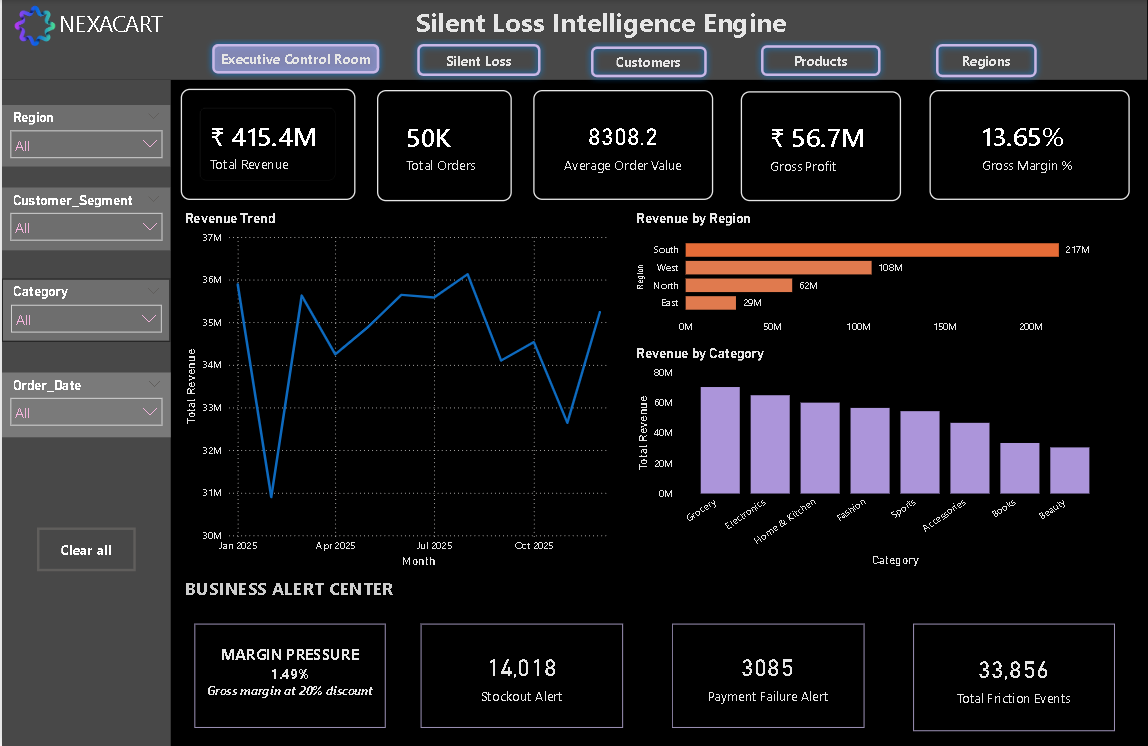

Layout of this report page (visuals, bound fields, positions):
{"tool":"powerbi","page":{"name":"Executive Control Room","canvas":[1400,912],"ordinal":0},"visuals":[{"type":"textbox","box":[0,0,1399.8,97.8],"z":0},{"type":"shape","box":[0,97.8,206.3,814.5],"z":1000},{"type":"slicer","fields":{"Values":["customers.Region"]},"box":[0,127.6,205.8,75.5],"z":2000},{"type":"slicer","fields":{"Values":["customers.Customer_Segment"]},"box":[0,229.2,205.8,76.8],"z":3000},{"type":"slicer","fields":{"Values":["products.Category"]},"box":[0,340.3,205.8,76.8],"z":4000},{"type":"slicer","fields":{"Values":["orders.Order_Date"]},"box":[0,455.4,206.3,79.5],"z":4500},{"type":"cardVisual","fields":{"Data":["order_items.Total Revenue"]},"box":[218.5,108.5,213.9,136],"z":5000},{"type":"cardVisual","fields":{"Data":["orders.Total Orders"]},"box":[458.4,110,165,136],"z":6000},{"type":"card","fields":{"Values":["orders.Average Order Value"]},"box":[649.5,110,220.1,134.5],"z":7000},{"type":"cardVisual","fields":{"Data":["order_items.Gross Profit"]},"box":[903.1,111.6,195.6,134.5],"z":8000},{"type":"cardVisual","fields":{"Data":["order_items.Gross Margin %"]},"box":[1133.9,110,244.5,134.5],"z":9000},{"type":"lineChart","title":"Revenue Trend","fields":{"Y":["order_items.Total Revenue"],"Category":["orders.Month Start.Variation.Date Hierarchy.Year","orders.Month Start.Variation.Date Hierarchy.Quarter","orders.Month Start.Variation.Date Hierarchy.Month","orders.Month Start.Variation.Date Hierarchy.Day"]},"box":[218.2,256.6,540.7,441.9],"z":10000},{"type":"barChart","title":"Revenue by Region","fields":{"Category":["customers.Region"],"Y":["order_items.Total Revenue"]},"box":[770.2,256.7,589.9,160.5],"z":11000},{"type":"columnChart","title":"Revenue by Category","fields":{"Category":["products.Category"],"Y":["order_items.Total Revenue"]},"box":[770.2,421.8,589.9,276.6],"z":12000},{"type":"textbox","box":[218.5,698.4,541,39.7],"z":13000},{"type":"textbox","box":[235.3,762.6,233.8,126.8],"z":14000},{"type":"card","fields":{"Values":["customer_events.Stockout Alert"]},"box":[511.9,762.6,247.6,126.8],"z":15000},{"type":"card","fields":{"Values":["customer_events.Payment Failure Alert"]},"box":[819.1,762.6,235.3,126.8],"z":16000},{"type":"card","fields":{"Values":["customer_events.Customer Friction Alert"]},"box":[1114,762.6,246,131.4],"z":17000},{"type":"actionButton","box":[42.8,644.9,120.7,53.5],"z":18000},{"type":"actionButton","box":[249.1,45.8,220.1,52],"z":19000},{"type":"image","box":[0,0,82.5,59.6],"z":20000},{"type":"actionButton","box":[712.1,48.9,157.4,53.5],"z":21000},{"type":"actionButton","box":[499.7,45.8,166.6,55],"z":22000},{"type":"actionButton","box":[1133.9,45.8,139.1,56.5],"z":23000},{"type":"actionButton","box":[920,47.4,162,53.5],"z":24000}]}

Visuals, with their boxes in screenshot pixels (x1, y1, x2, y2), scaled from the page's 1400x912 canvas onto the 1148x746 screenshot:
textbox: 0 0 1147 80
shape: 0 80 169 745
slicer - customers.Region: 0 104 169 166
slicer - customers.Customer_Segment: 0 187 169 250
slicer - products.Category: 0 278 169 341
slicer - orders.Order_Date: 0 373 169 438
cardVisual - order_items.Total Revenue: 179 89 355 200
cardVisual - orders.Total Orders: 376 90 511 201
card - orders.Average Order Value: 533 90 713 200
cardVisual - order_items.Gross Profit: 741 91 901 201
cardVisual - order_items.Gross Margin %: 930 90 1130 200
"Revenue Trend" lineChart: 179 210 622 571
"Revenue by Region" barChart: 632 210 1115 341
"Revenue by Category" columnChart: 632 345 1115 571
textbox: 179 571 623 604
textbox: 193 624 385 728
card - customer_events.Stockout Alert: 420 624 623 728
card - customer_events.Payment Failure Alert: 672 624 865 728
card - customer_events.Customer Friction Alert: 913 624 1115 731
actionButton: 35 528 134 571
actionButton: 204 37 385 80
image: 0 0 68 49
actionButton: 584 40 713 84
actionButton: 410 37 546 82
actionButton: 930 37 1044 84
actionButton: 754 39 887 83
